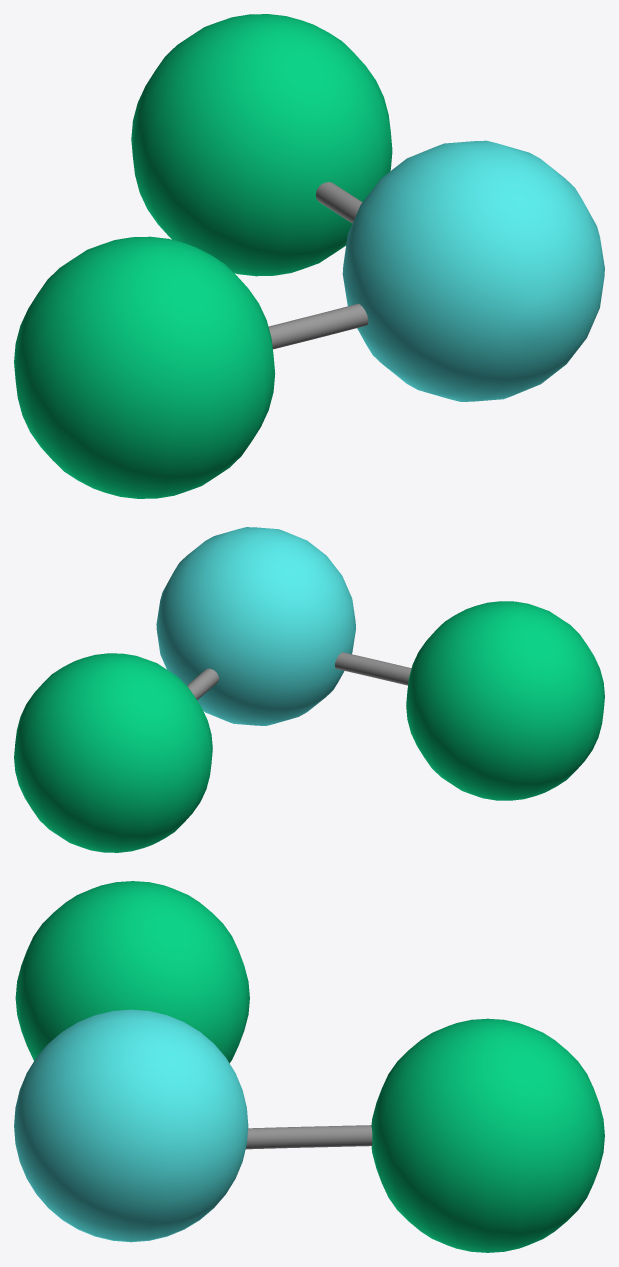
3 renders of one model, top to bottom at view 1: azimuth 30°, elevation 25°; view 2: azimuth 150°, elevation 25°; view 3: azimuth 270°, elevation 25°, orthographic. The views are drawn at different scales.
Visible parts, largest first — view 1: K2S; view 2: K2S; view 3: K2S.
Boxes of the visible parts, <box> form: K2S: <box>14,14,604,498</box>; K2S: <box>14,527,604,852</box>; K2S: <box>14,881,604,1252</box>.
Bounding box in the file's own units: 4.89 × 2.14 × 5.04.
